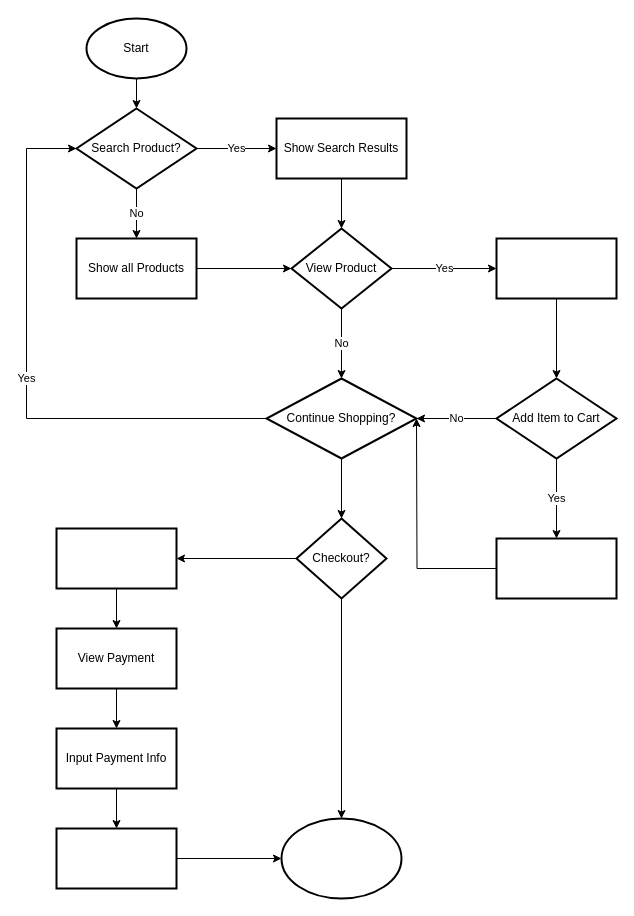
This 634x916 diagram has some shape labels left out. The box of each missing label's shape, as (x1, y1, x2, y2) in pixels:
Added to Cart Confirmation: (495, 537, 617, 599)
Finish: (280, 817, 402, 899)
Order Confirmation and Email: (55, 827, 177, 889)
Show Product Page: (495, 237, 617, 299)
View Cart: (55, 527, 177, 589)
